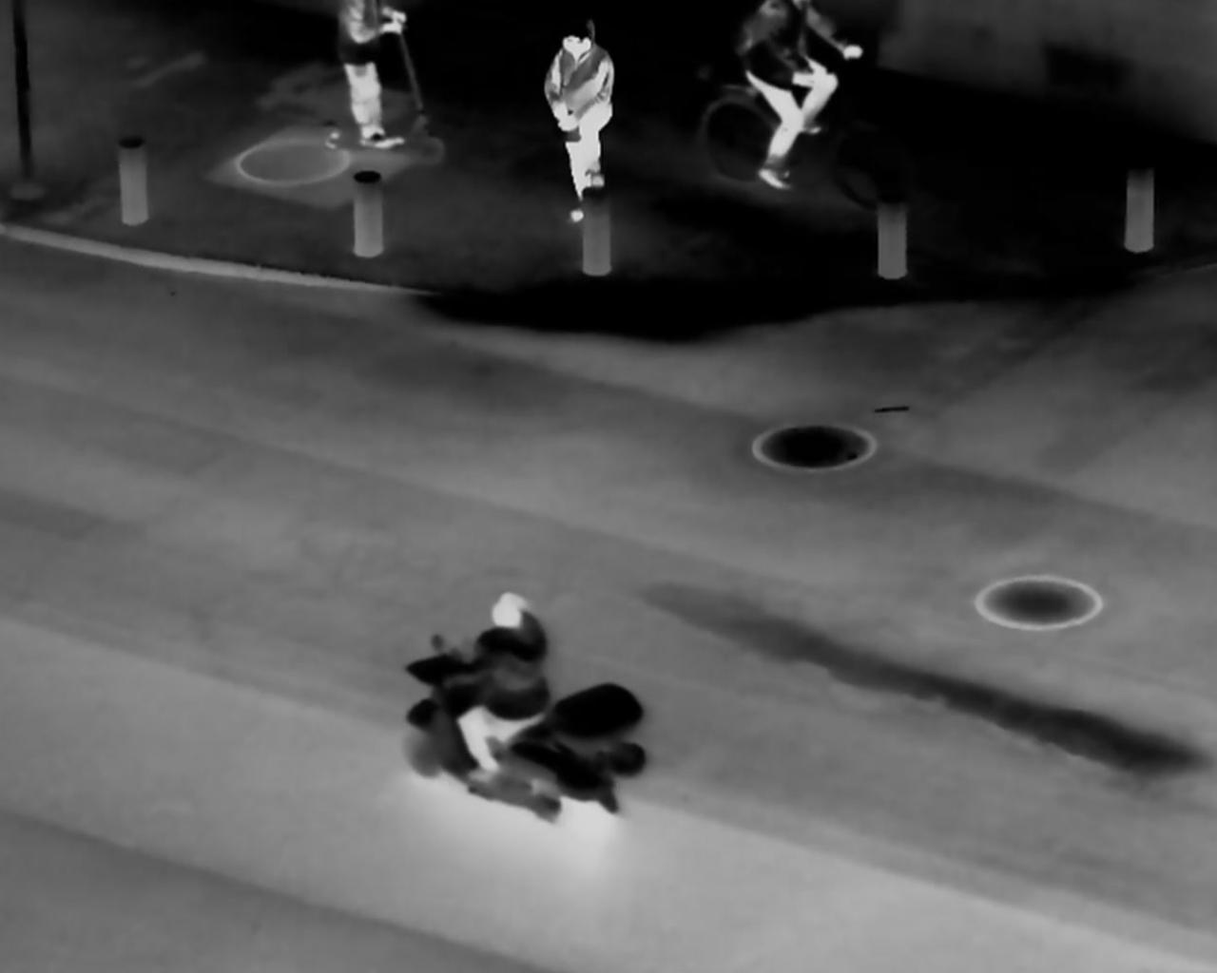person: (435, 586, 557, 783), (531, 15, 626, 234), (326, 6, 411, 164)
